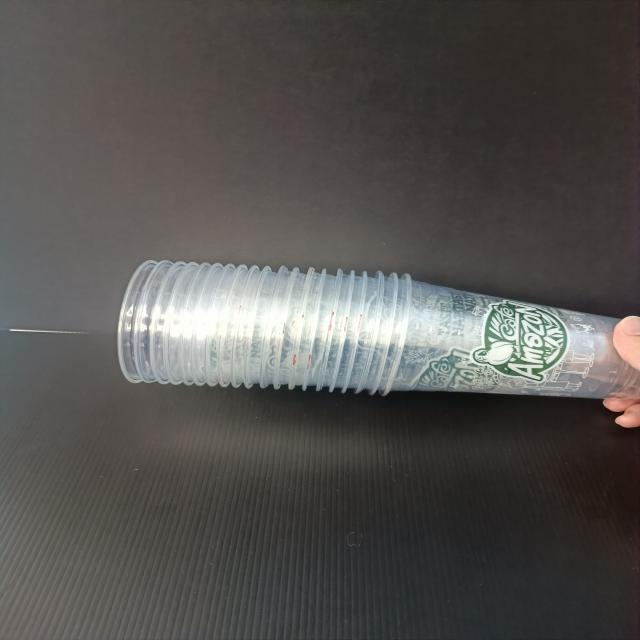bottle: (393, 282, 640, 426)
